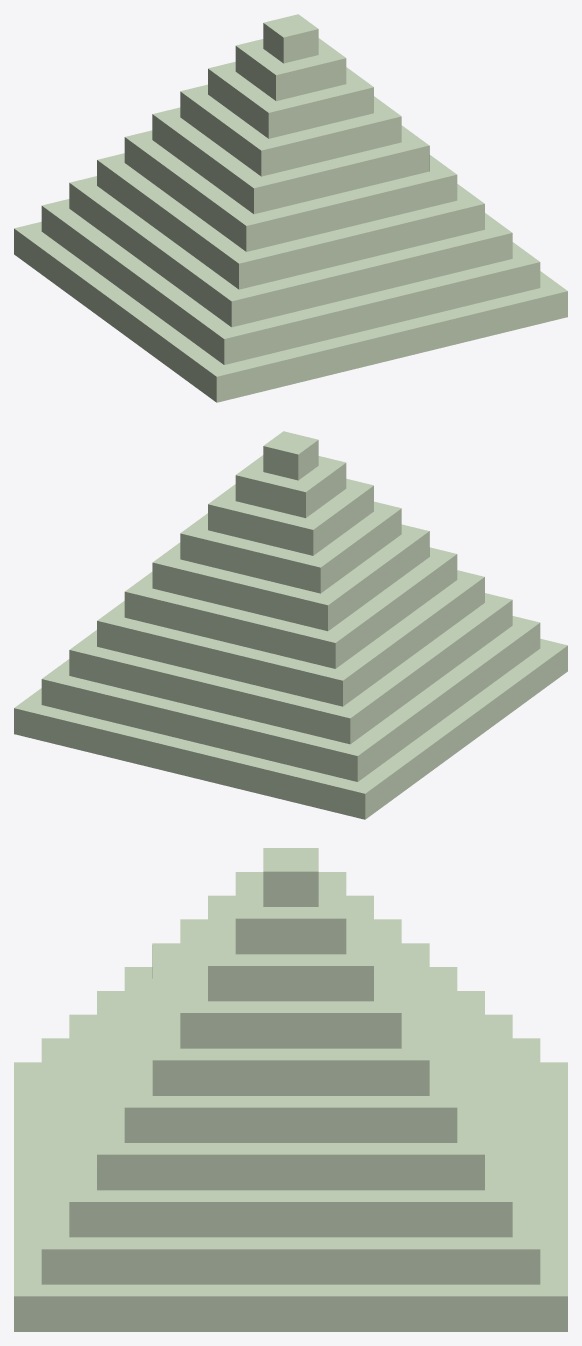
3 renders of one model, top to bottom at view 1: azimuth 30°, elevation 25°; view 2: azimuth 150°, elevation 25°; view 3: azimuth 270°, elevation 25°, orthographic. The views are drawn at different scales.
Visible parts, largest first — view 1: Pyramid; view 2: Pyramid; view 3: Pyramid.
Boxes of the visible parts, <box> form: Pyramid: <box>14,14,567,402</box>; Pyramid: <box>14,431,567,819</box>; Pyramid: <box>14,848,567,1331</box>.
Bounding box in the file's own units: 1.41 × 1 × 1.41.
